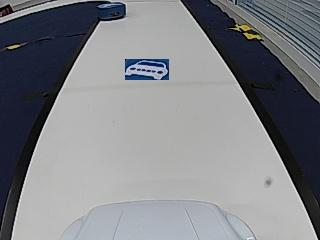prop: (98, 4, 125, 21)
